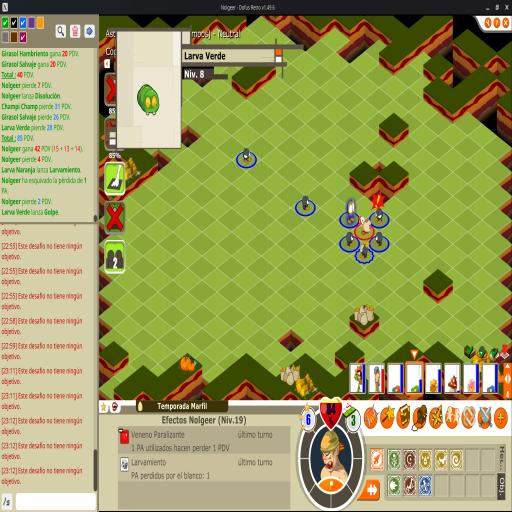Enemigos: (346, 199, 356, 224), (359, 239, 370, 259), (374, 206, 384, 224), (242, 147, 252, 164), (374, 231, 384, 247), (302, 195, 311, 211), (346, 231, 355, 247)
Personaje: (360, 216, 372, 236)
